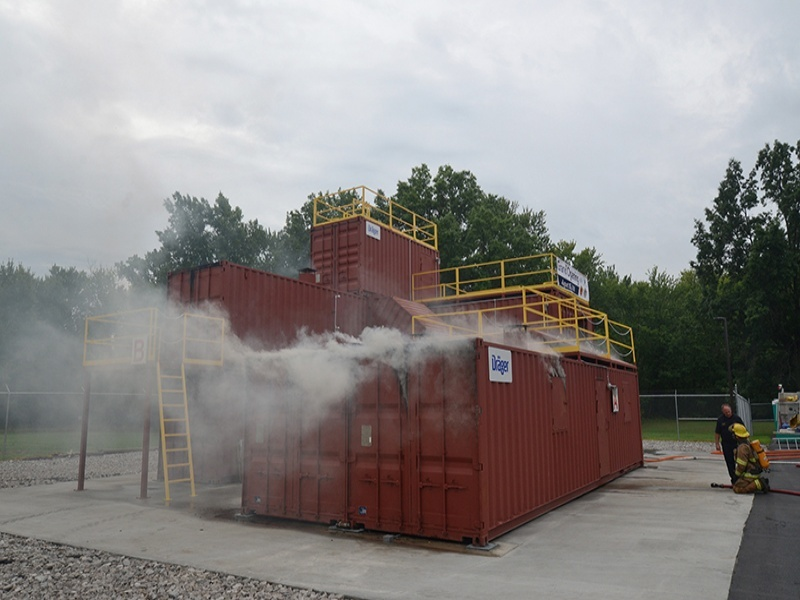smoke: (7, 291, 337, 473)
